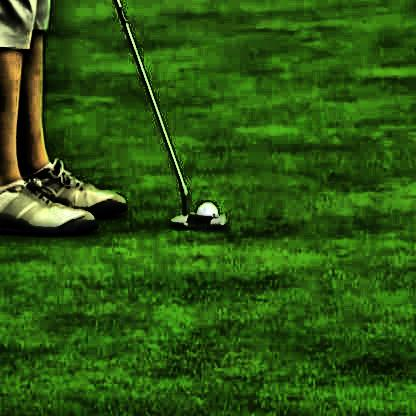golfball: (195, 199, 219, 218)
